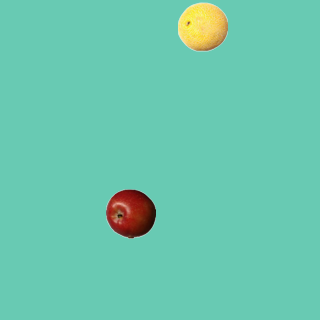Apple Braeburn: (105, 188, 155, 238)
Cantaloupe 1: (177, 1, 227, 51)
